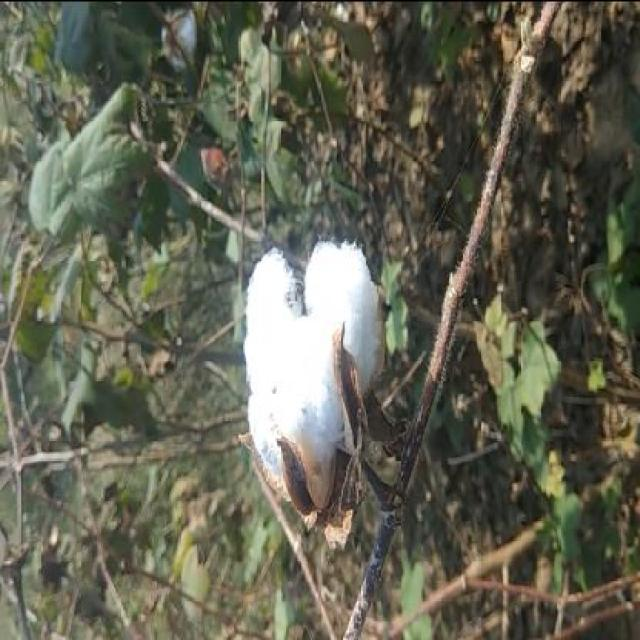cotton_ready: (216, 246, 410, 494)
